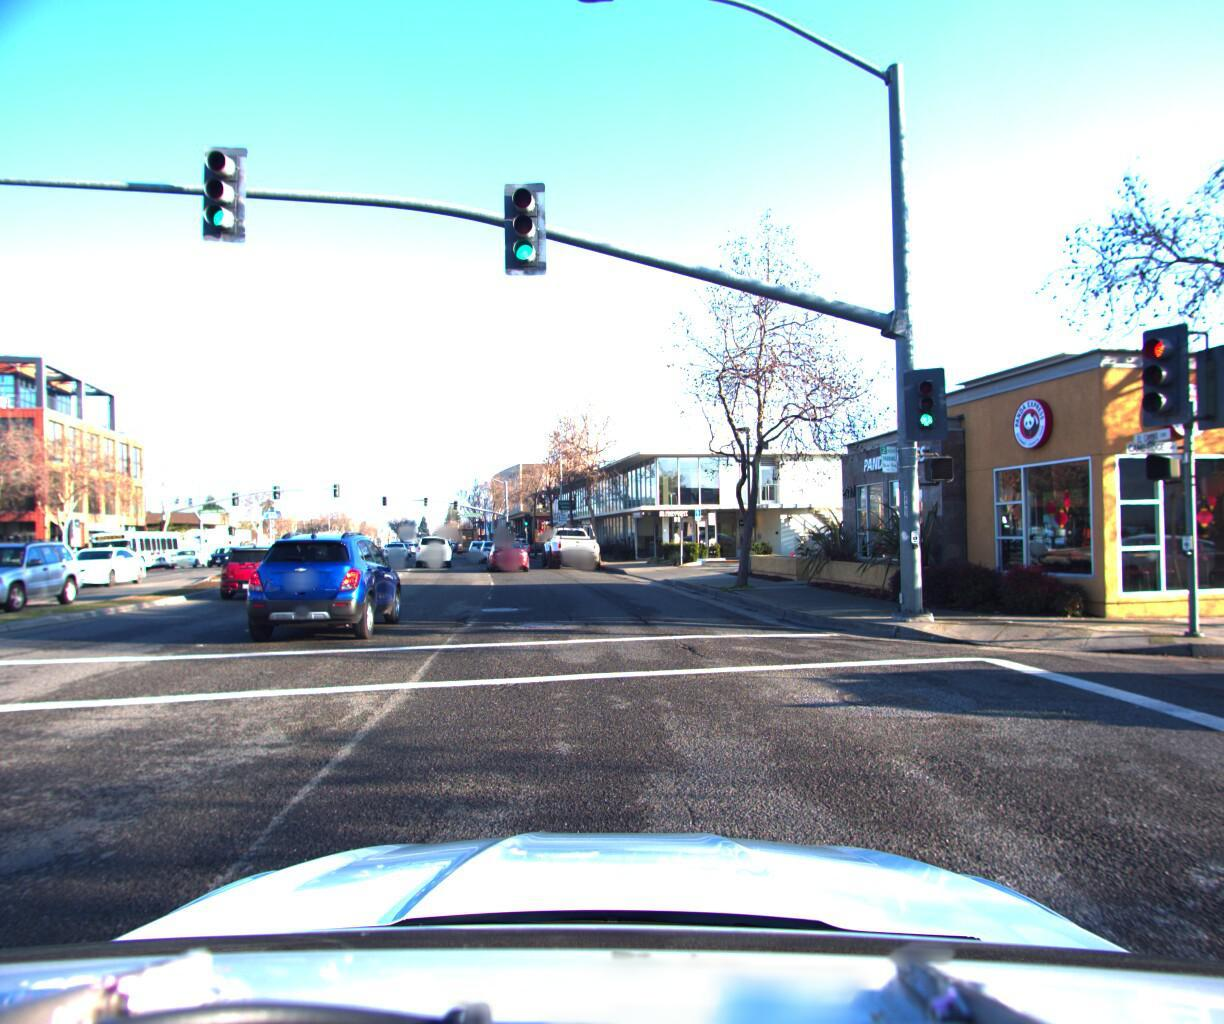bus: (88, 529, 191, 568)
car: (235, 533, 411, 652), (213, 533, 324, 602), (51, 540, 154, 589), (534, 514, 601, 567), (321, 529, 392, 579), (482, 526, 531, 570), (411, 532, 451, 570), (465, 533, 502, 559), (168, 542, 211, 564), (204, 539, 244, 563), (499, 530, 533, 552), (379, 534, 409, 557), (458, 534, 486, 554)
